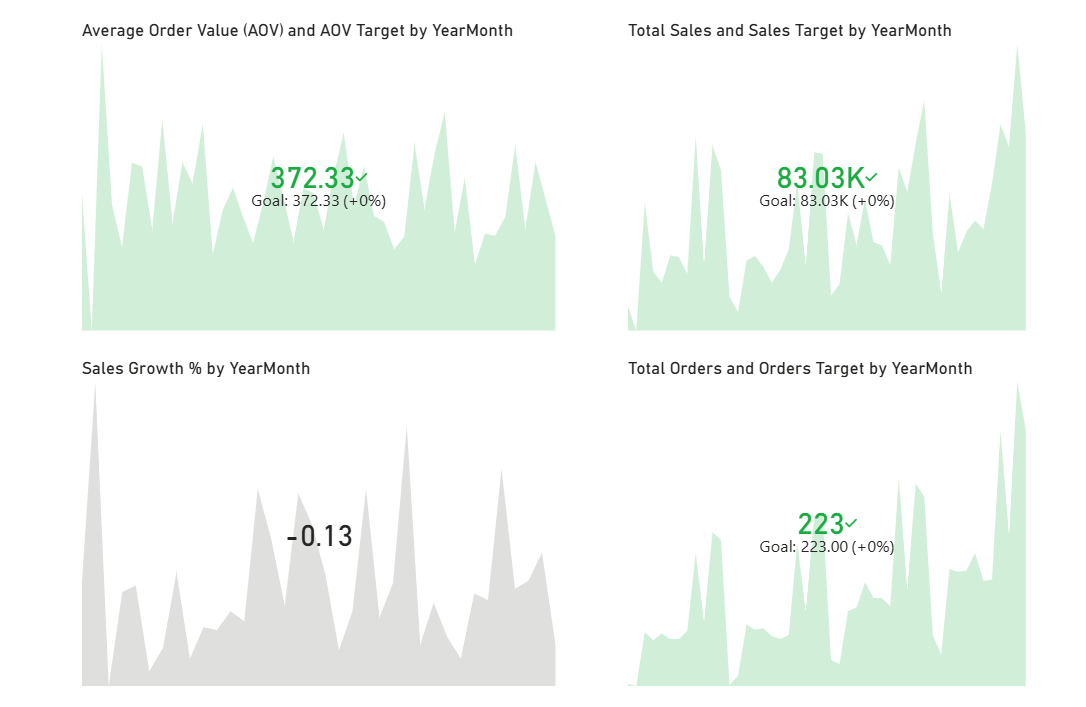

This screenshot's page, from the dashboard's own definition file:
{"tool":"powerbi","page":{"name":"Executive Overview","canvas":[1280,720],"ordinal":0},"visuals":[{"type":"kpi","fields":{"Indicator":["vw_clean_sales.Average Order Value (AOV)"],"Goal":["vw_clean_sales.AOV Target"],"TrendLine":["DateTable.YearMonth"]},"box":[92,29.4,473.6,309.2],"z":3000},{"type":"kpi","fields":{"Indicator":["vw_clean_sales.Total Sales"],"Goal":["vw_clean_sales.Sales Target"],"TrendLine":["DateTable.YearMonth"]},"box":[626.3,29.4,399.3,309.2],"z":4000},{"type":"kpi","fields":{"Indicator":["vw_clean_sales.Total Orders"],"Goal":["vw_clean_sales.Orders Target"],"TrendLine":["DateTable.YearMonth"]},"box":[626.3,360.1,399.3,326.9],"z":5000},{"type":"kpi","fields":{"Indicator":["vw_clean_sales.Sales Growth %"],"TrendLine":["DateTable.YearMonth"]},"box":[92,360.1,473.6,326.9],"z":7000}]}

Visuals, with their boxes on the page's 1280x720 design canvas (x1, y1, x2, y2). These are canvas units, not pixel positions in the 1086x707 screenshot, which may show the page scaled, cropped or inside an application window:
kpi - vw_clean_sales.Average Order Value (AOV) x vw_clean_sales.AOV Target: select_region(92, 29, 566, 339)
kpi - vw_clean_sales.Total Sales x vw_clean_sales.Sales Target: select_region(626, 29, 1026, 339)
kpi - vw_clean_sales.Total Orders x vw_clean_sales.Orders Target: select_region(626, 360, 1026, 687)
kpi - vw_clean_sales.Sales Growth % x DateTable.YearMonth: select_region(92, 360, 566, 687)
